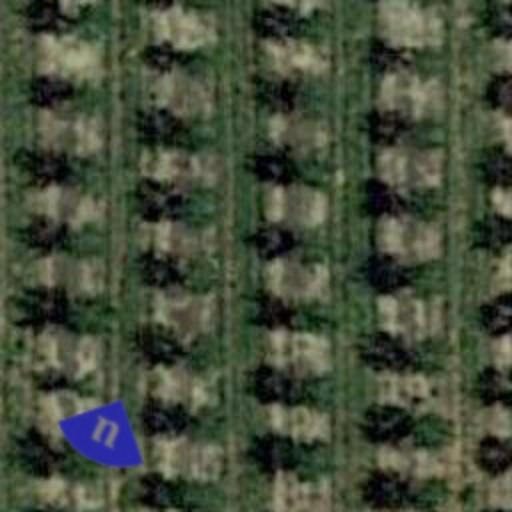quarter_circle: (42, 374, 166, 498)
